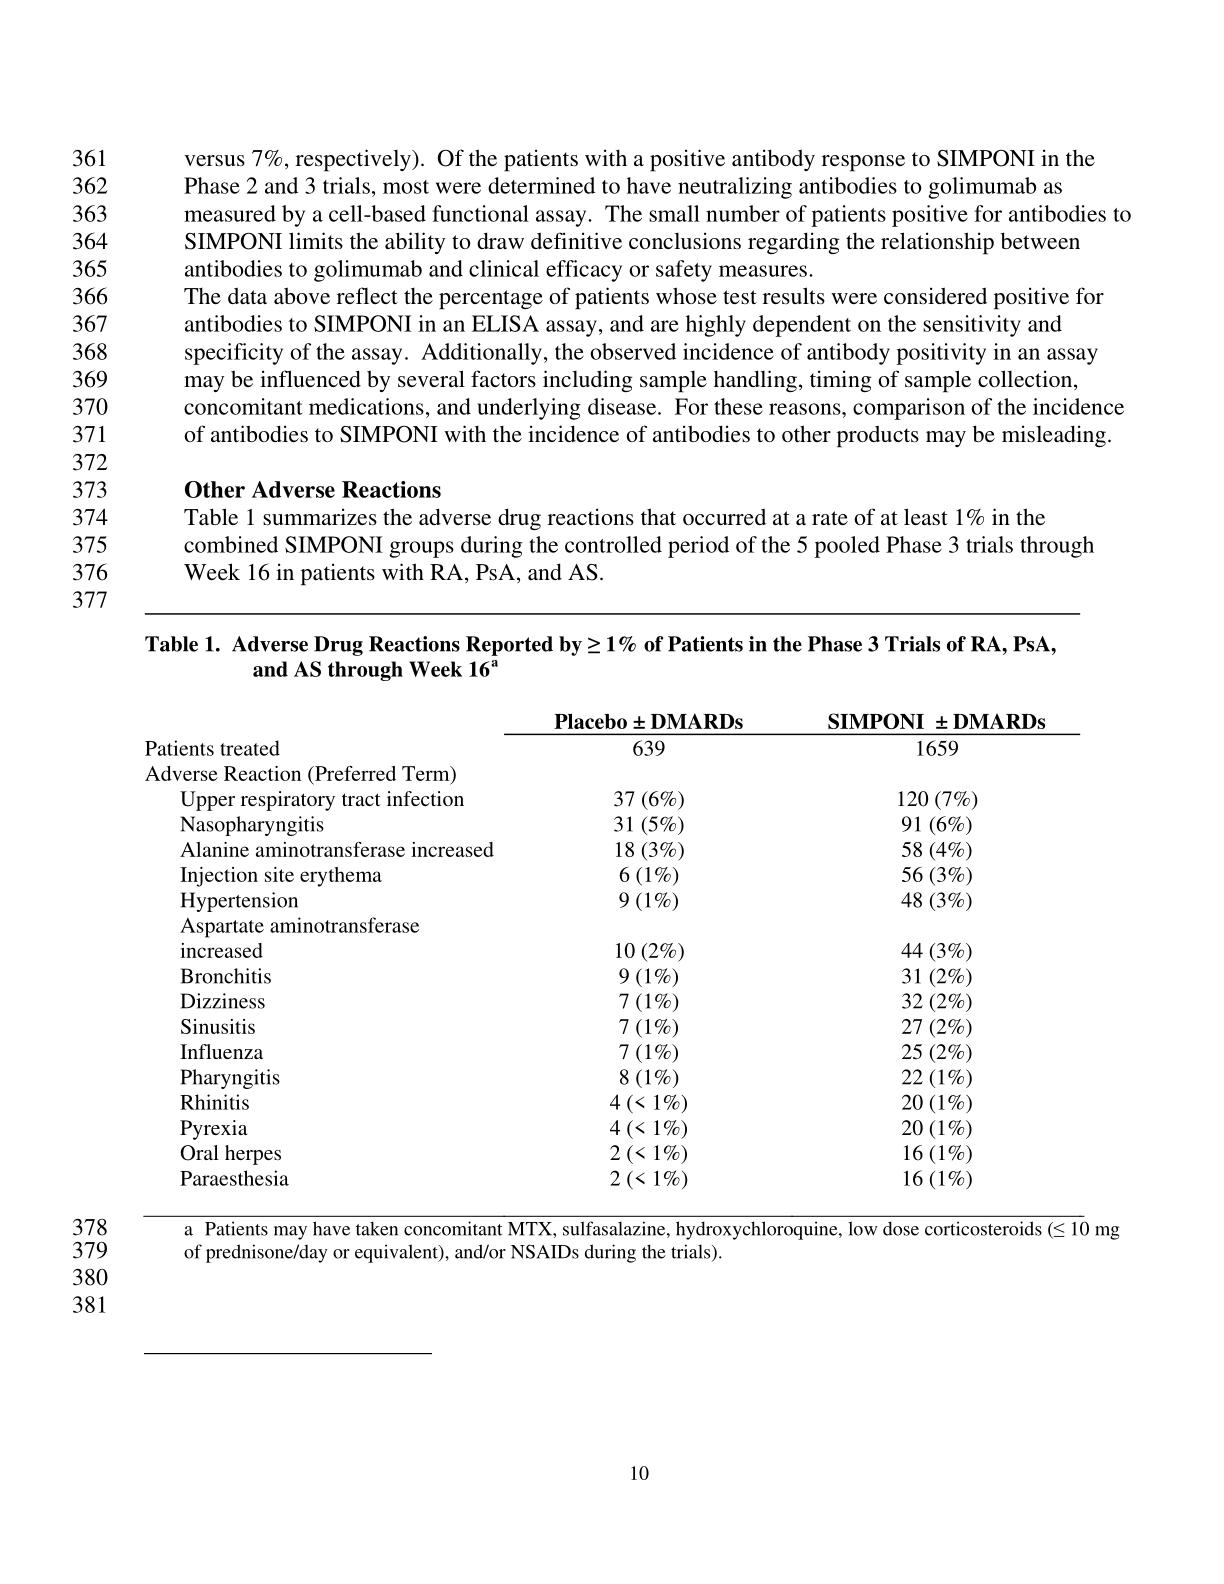partial_lined: (140, 699, 1089, 1219)
